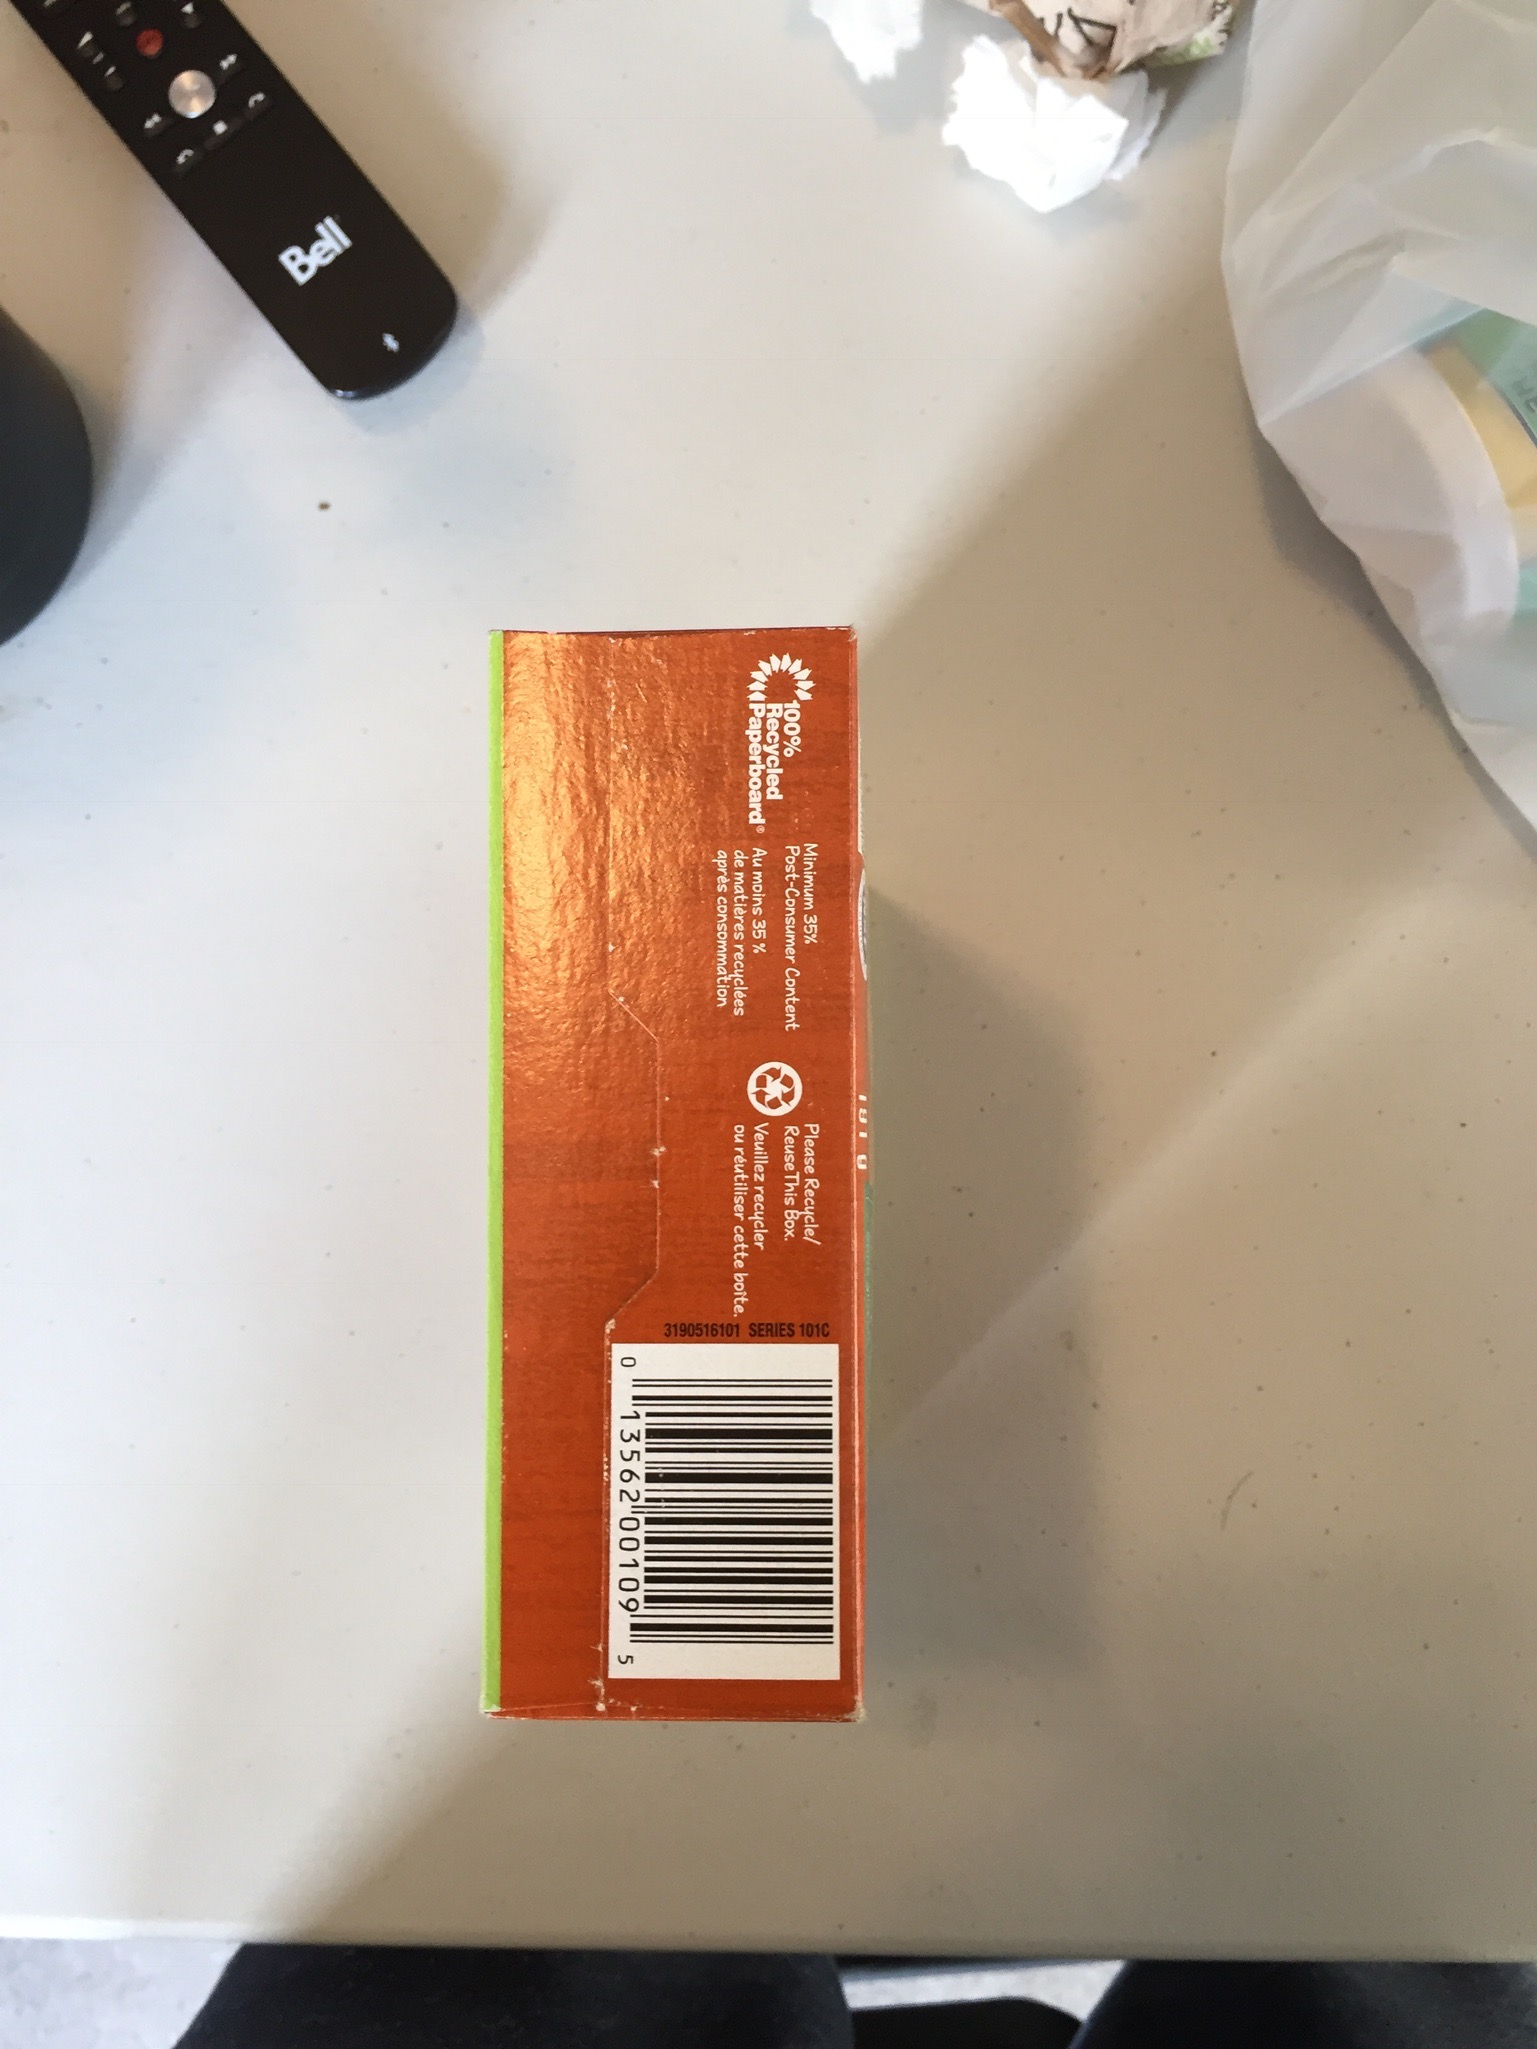annies_snickerdoodle_cinnamon_sugar: (502, 635, 846, 1716)
